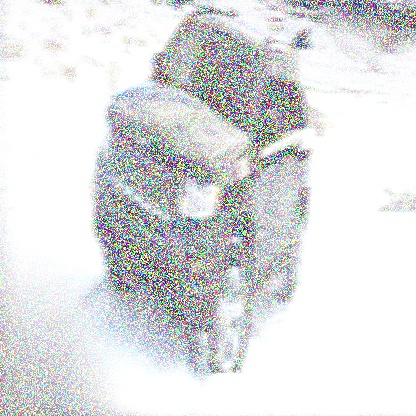Vehicle: (90, 1, 314, 388)
